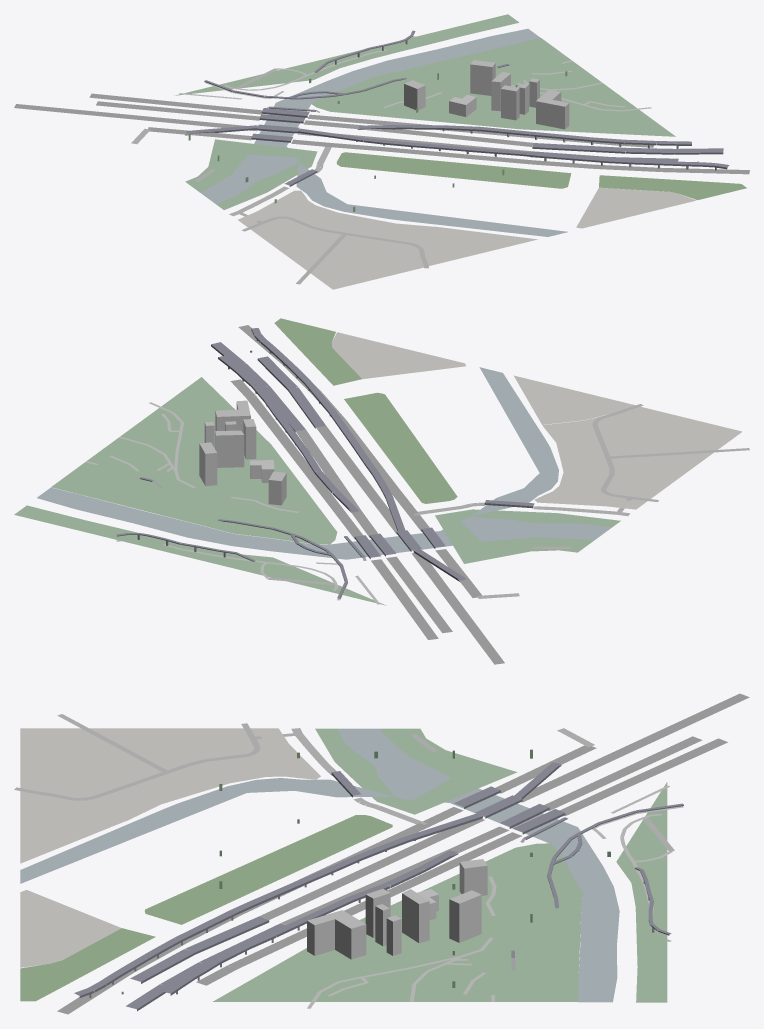
3 renders of one model, top to bottom at view 1: azimuth 30°, elevation 25°; view 2: azimuth 150°, elevation 25°; view 3: azimuth 270°, elevation 25°, orthographic. The views are drawn at different scales.
Size of the model in its own units: 589 by 35.89 by 569.
